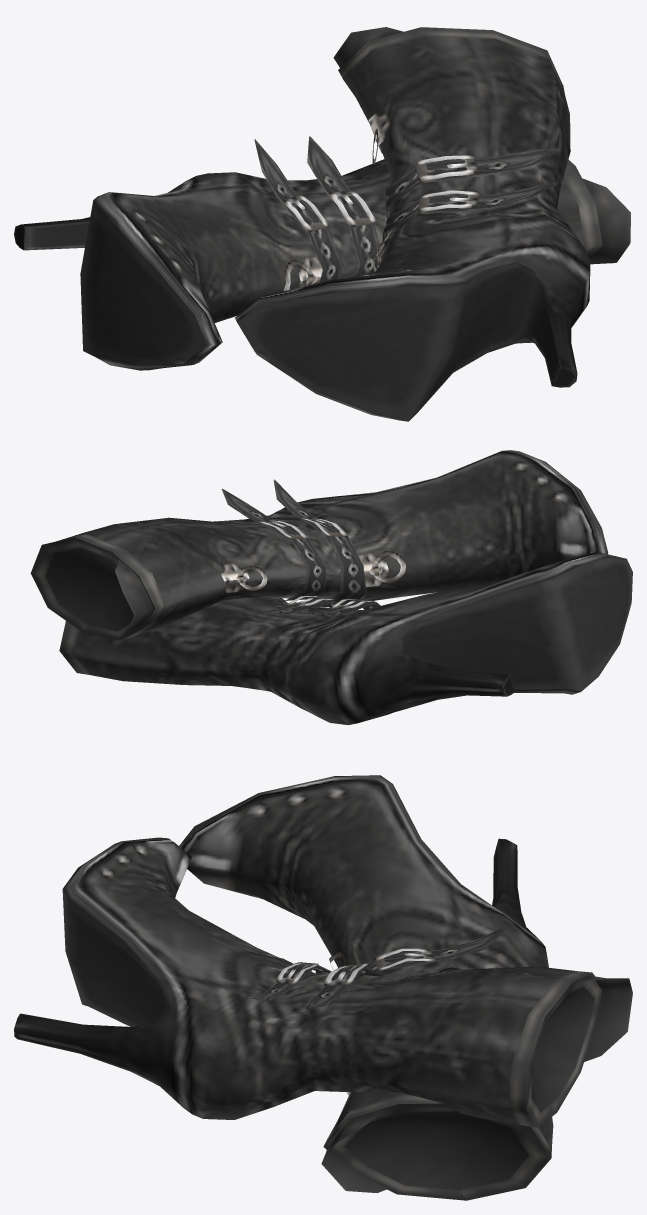
Rendered from Stiletto_Boot_Ground.fbx.
3 views of the same model, one above another, from view 1: azimuth 30°, elevation 25°; view 2: azimuth 150°, elevation 25°; view 3: azimuth 270°, elevation 25° (orthographic). The views are drawn at different scales.
Visible parts, largest first — view 1: Stiletto_Boot; view 2: Stiletto_Boot; view 3: Stiletto_Boot.
Part boxes in pixels (<box>): Stiletto_Boot: <box>14,27,630,421</box>; Stiletto_Boot: <box>30,450,632,725</box>; Stiletto_Boot: <box>14,775,632,1200</box>.
Size of the model in its own units: 0.2392 by 0.0811 by 0.2176.
